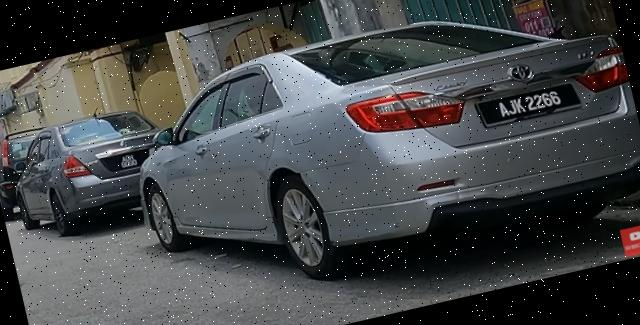License_Plate: (475, 77, 584, 130), (116, 153, 144, 172)
car: (113, 1, 640, 315), (1, 94, 188, 246)
